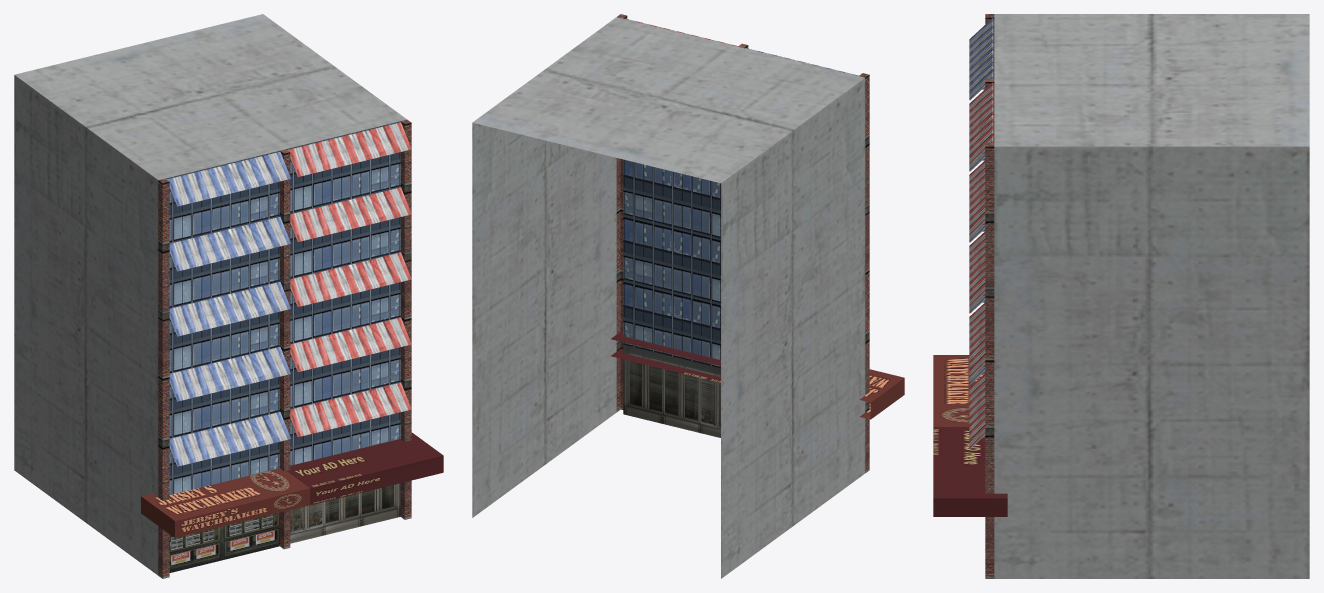
Rendered from Citybuilding06.fbx.
The picture shows the model from 3 angles, left to right: view 1: azimuth 30°, elevation 25°; view 2: azimuth 150°, elevation 25°; view 3: azimuth 270°, elevation 25°; orthographic projection. The views are drawn at different scales.
Visible parts, largest first — view 1: Citybuilding06; view 2: Citybuilding06; view 3: Citybuilding06.
Boxes of the visible parts, x1=… form: Citybuilding06: x1=14, y1=14, x2=443, y2=578; Citybuilding06: x1=472, y1=14, x2=904, y2=578; Citybuilding06: x1=933, y1=14, x2=1309, y2=578.
Size of the model in its own units: 2669 by 3755 by 2962.
